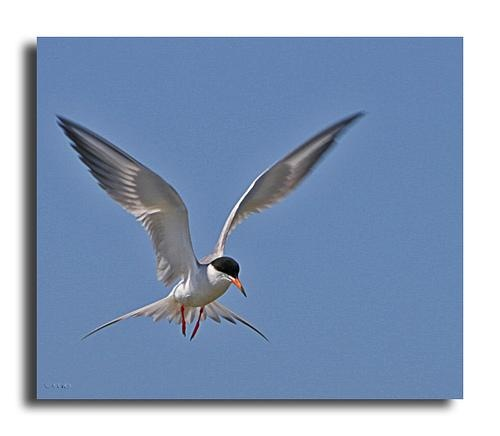bird: (51, 107, 370, 343)
